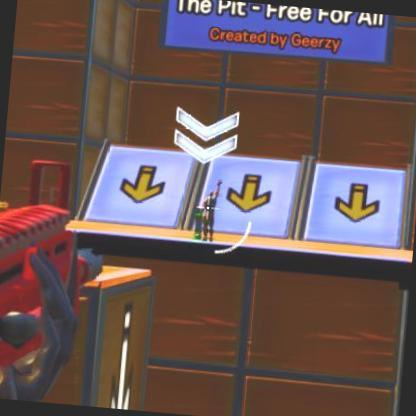person: (198, 190, 214, 232)
